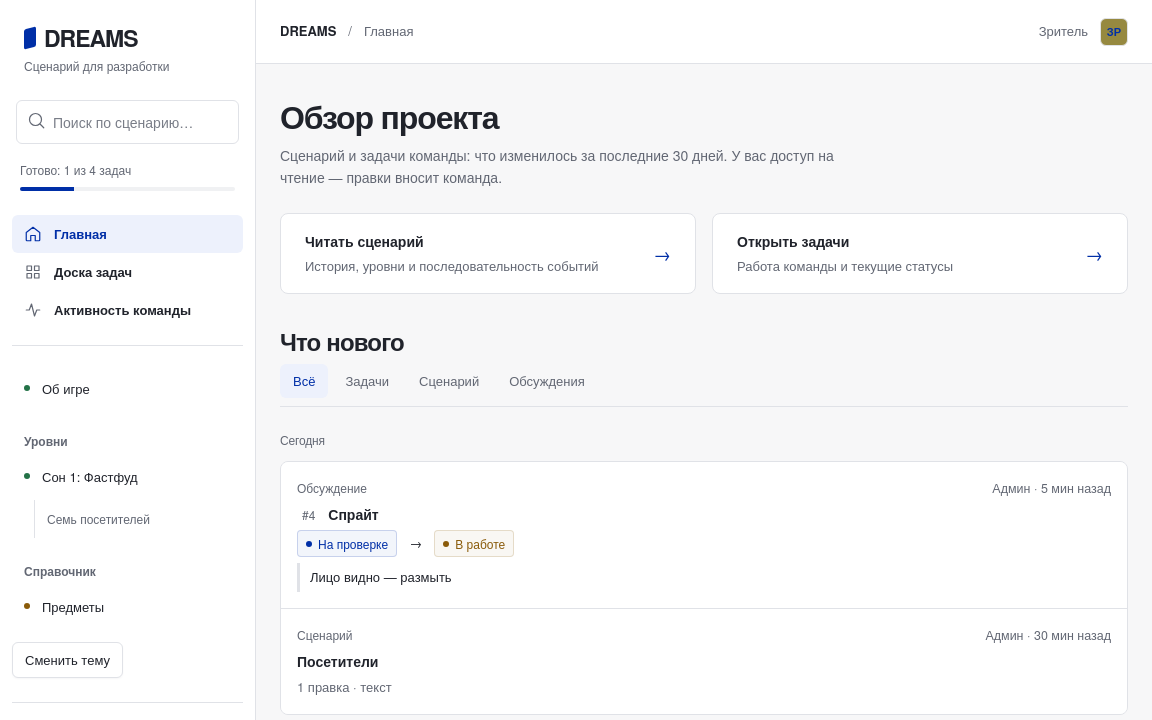
Test: HomePage news › filters stories
Expected: the element "Сегодня" is shown, [280,431,1128,715]
Click the button "Сценарий".
click(449, 381)  # box [406,364,492,398]
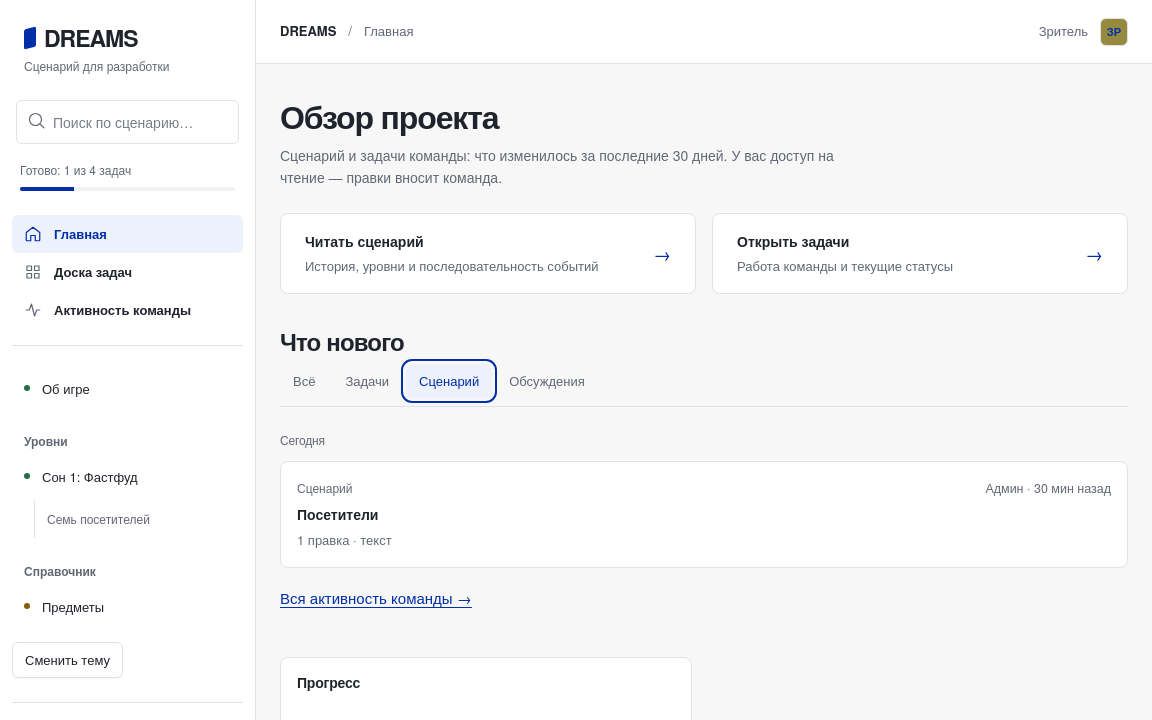
Expected: the list item with class "news-card" shows "Посетители", [297,504,378,524]
Result: the number of list items with class "news-card" is 1 at [281,462,1127,567]
Click the button "Обсуждения".
click(547, 381)  # box [496,364,598,398]
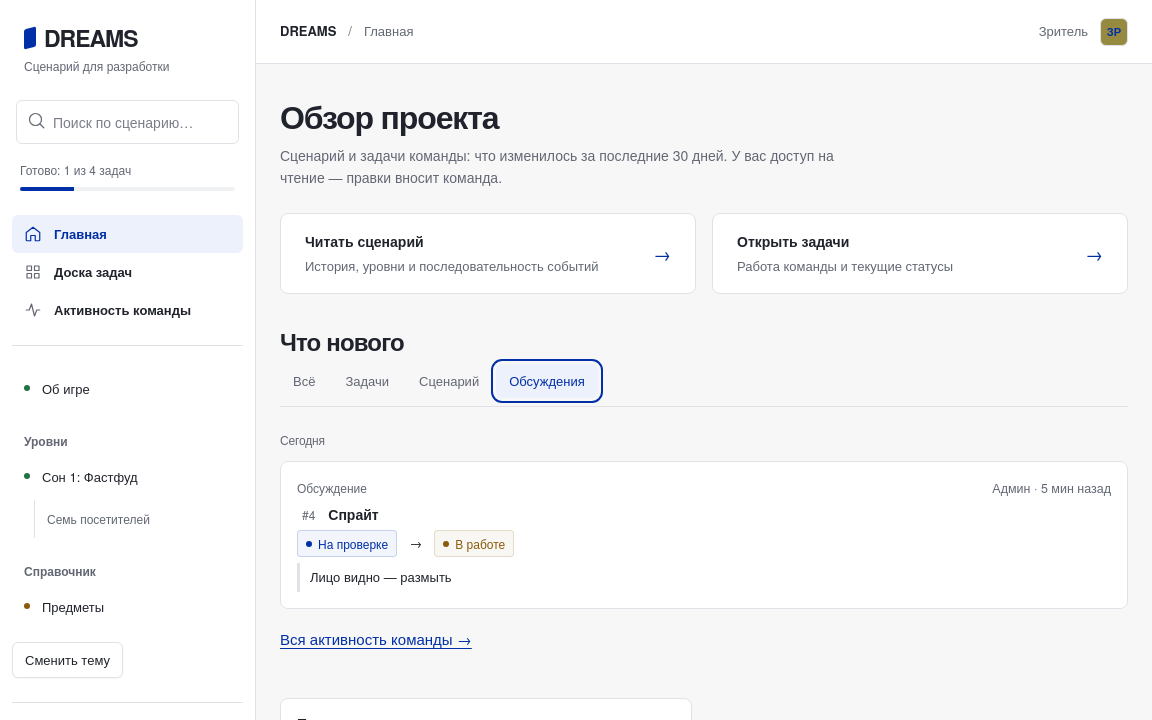
Expected: the text "доступ на чтение" is shown, [280,145,834,187]
Result: the list item with class "news-card" shows "Лицо видно" at [310,567,452,586]
